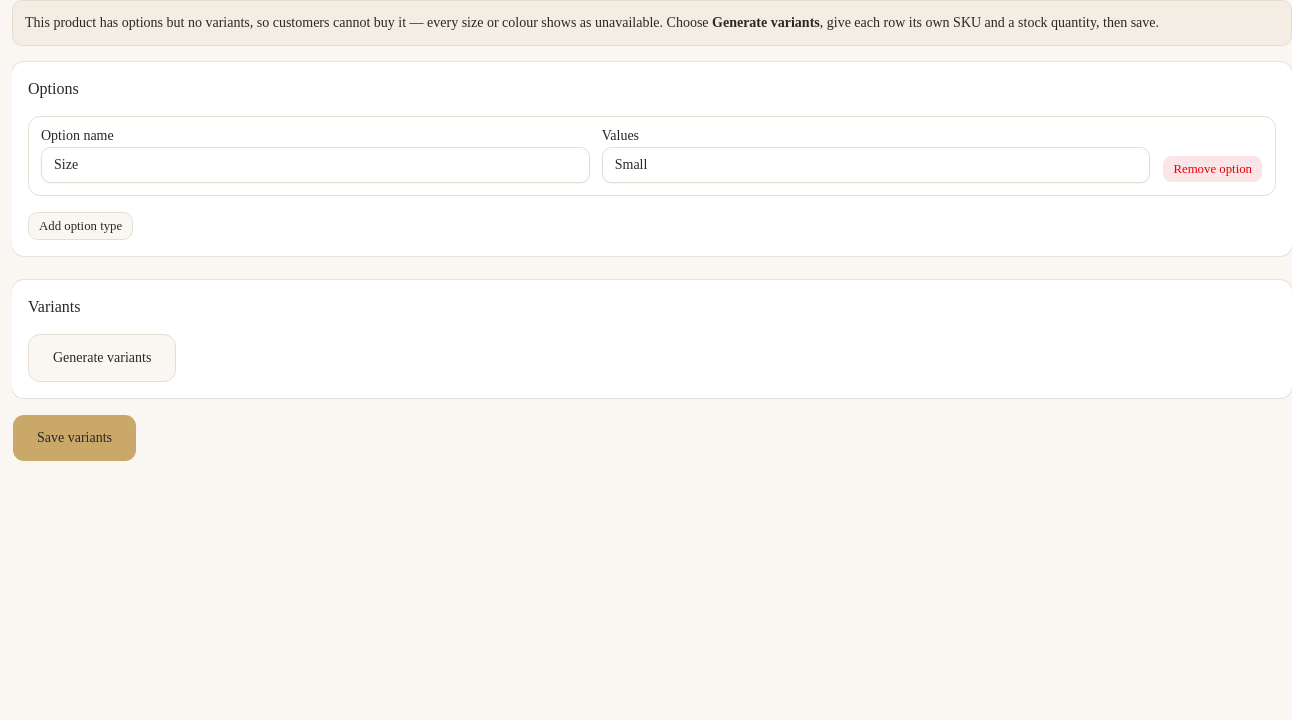
Test: VariantStructurePanel — explaining failures › warns when every saved variant has zero stock
The width and height of the screenshot is (1292, 720).
Step 1. Click the button "Generate variants" → (102, 358), box top-left (28, 334), bottom-right (176, 382)
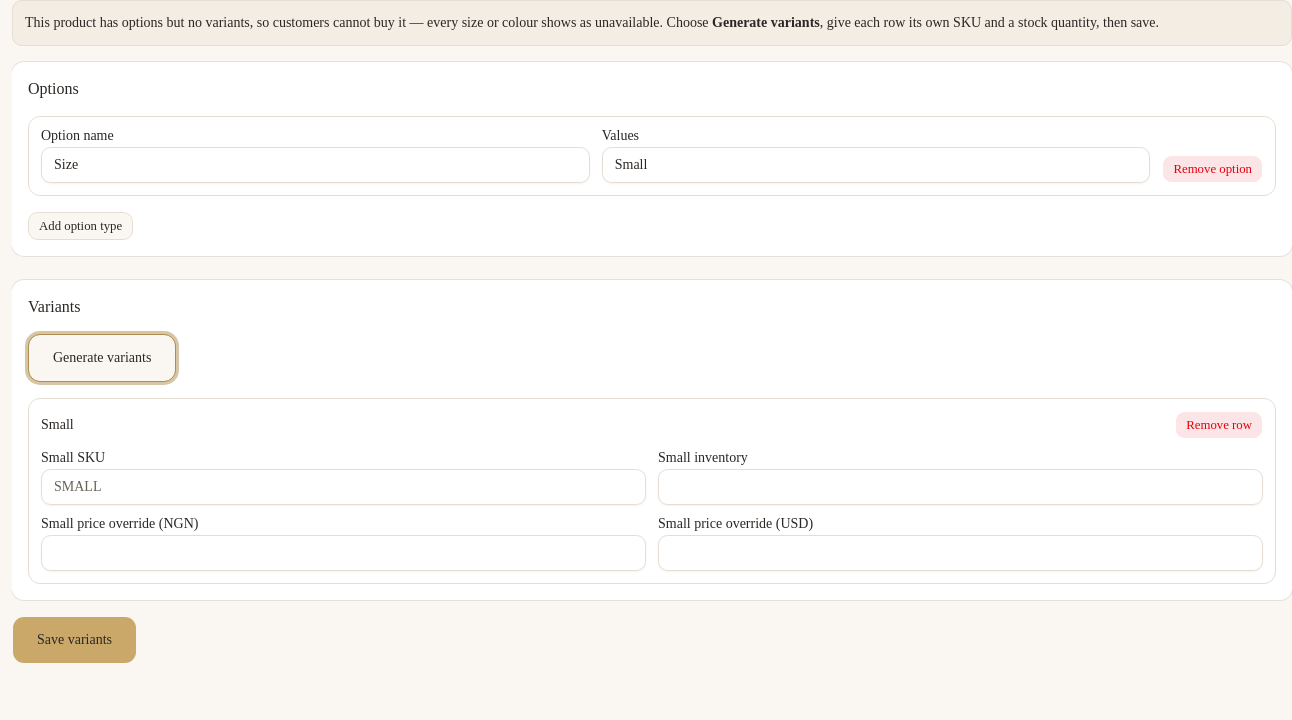
Step 2. Type "MSE-RNG-002-S3" into the field labelled "Small SKU" → (344, 487), box top-left (41, 469), bottom-right (646, 505)
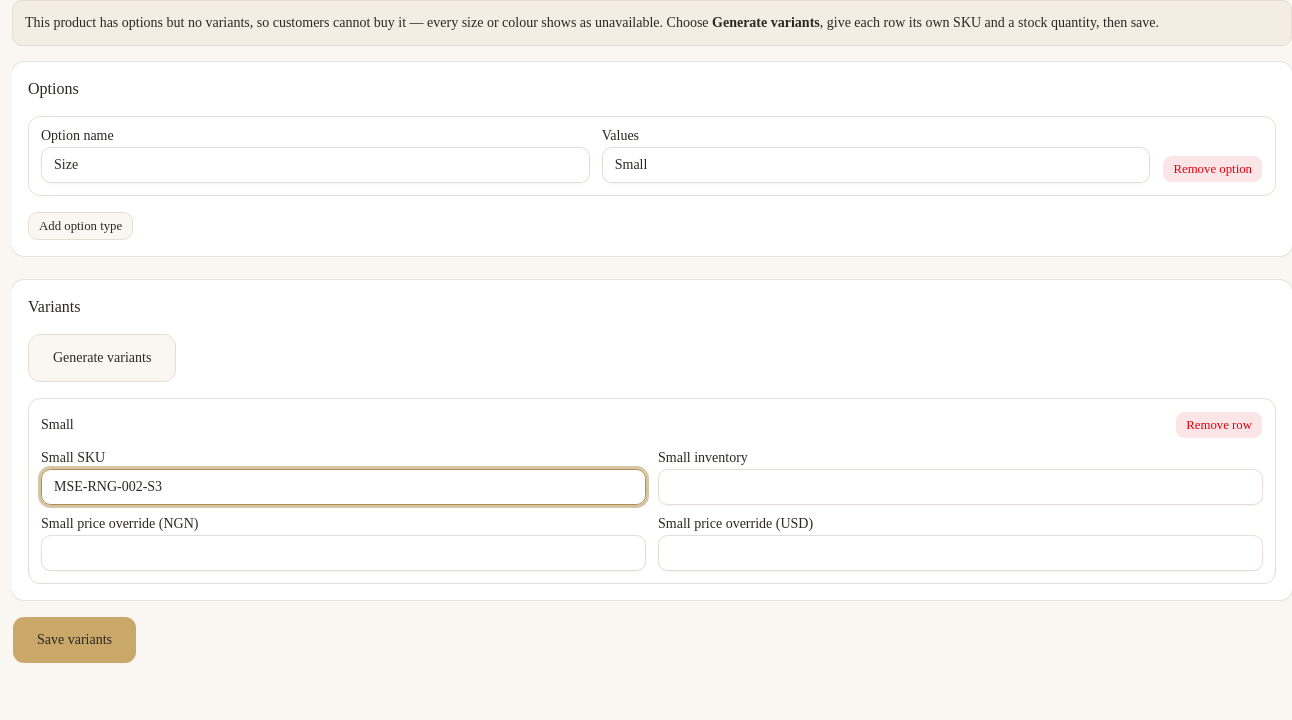
Step 3. Click the button "Save variants" → (74, 640), box top-left (12, 616), bottom-right (137, 664)
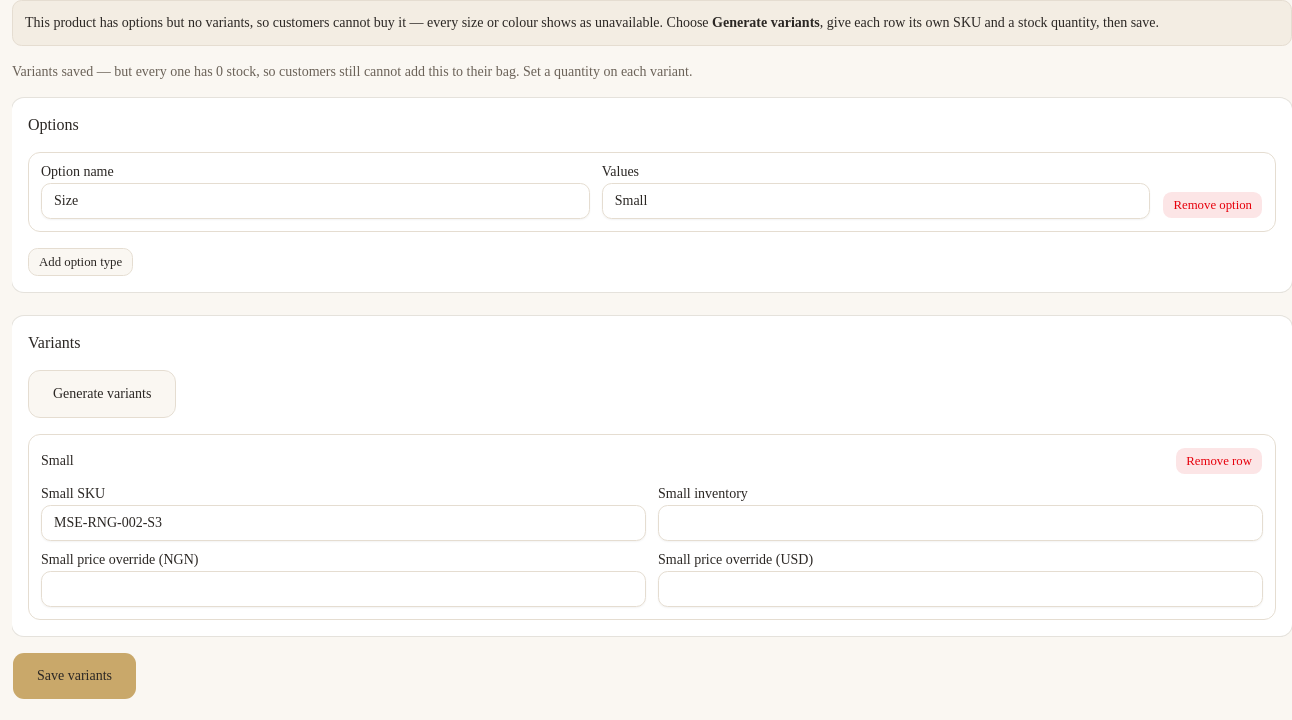
expect the text "every one has 0 stock" is shown: met, box top-left (12, 64), bottom-right (692, 79)
